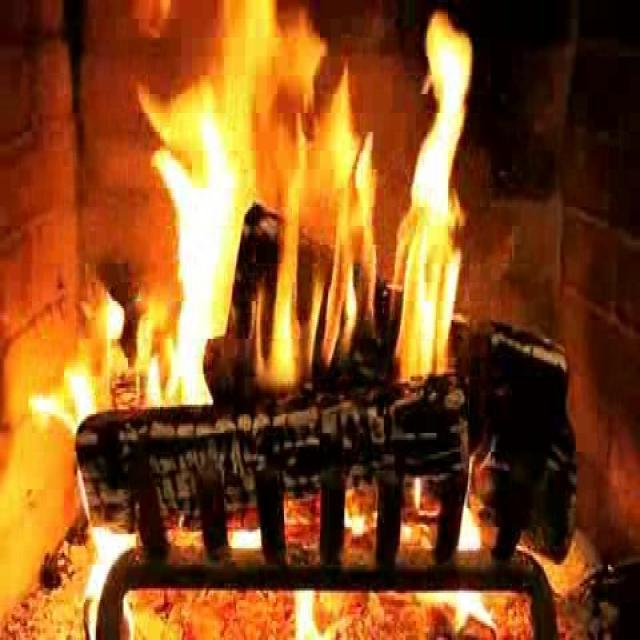Fire: (130, 16, 468, 460)
